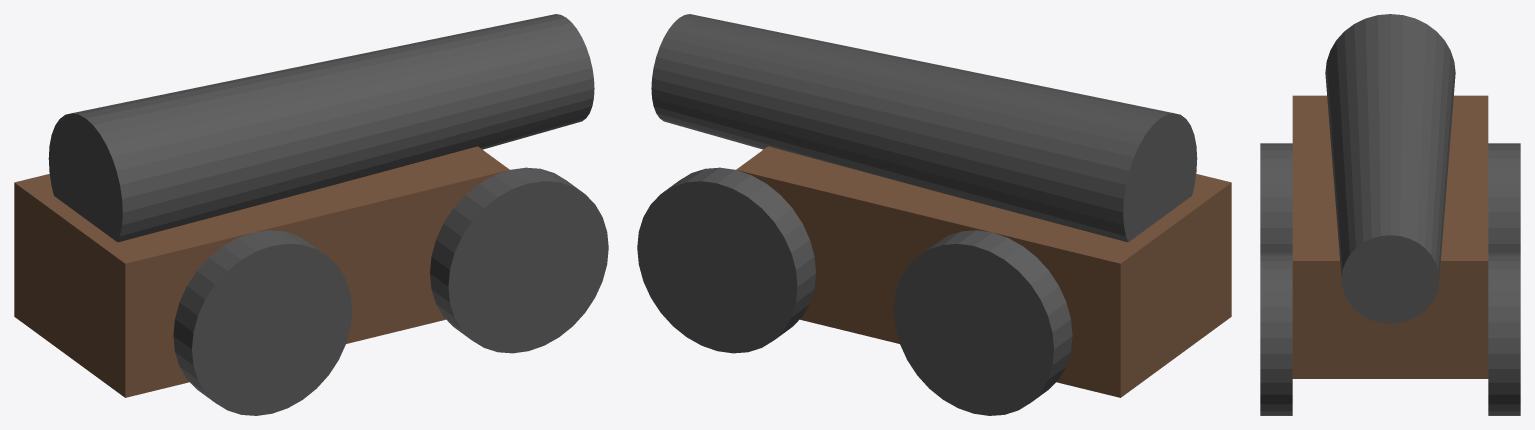
File: defense_cannon.glb
3 views of the same model, side by side, from view 1: azimuth 30°, elevation 25°; view 2: azimuth 150°, elevation 25°; view 3: azimuth 270°, elevation 25° (orthographic). The views are drawn at different scales.
Parts seen in each view (by area): view 1: defense_cannon; view 2: defense_cannon; view 3: defense_cannon.
Part boxes in pixels (<box>): defense_cannon: <box>14,14,608,415</box>; defense_cannon: <box>637,14,1231,415</box>; defense_cannon: <box>1260,14,1520,415</box>.
Bounding box in the file's own units: 1.55 × 0.8 × 0.8.
